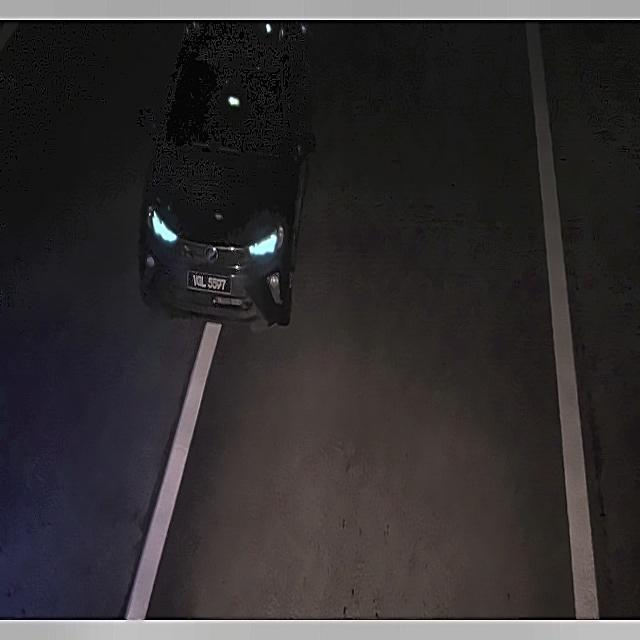car: (186, 268, 228, 298)
